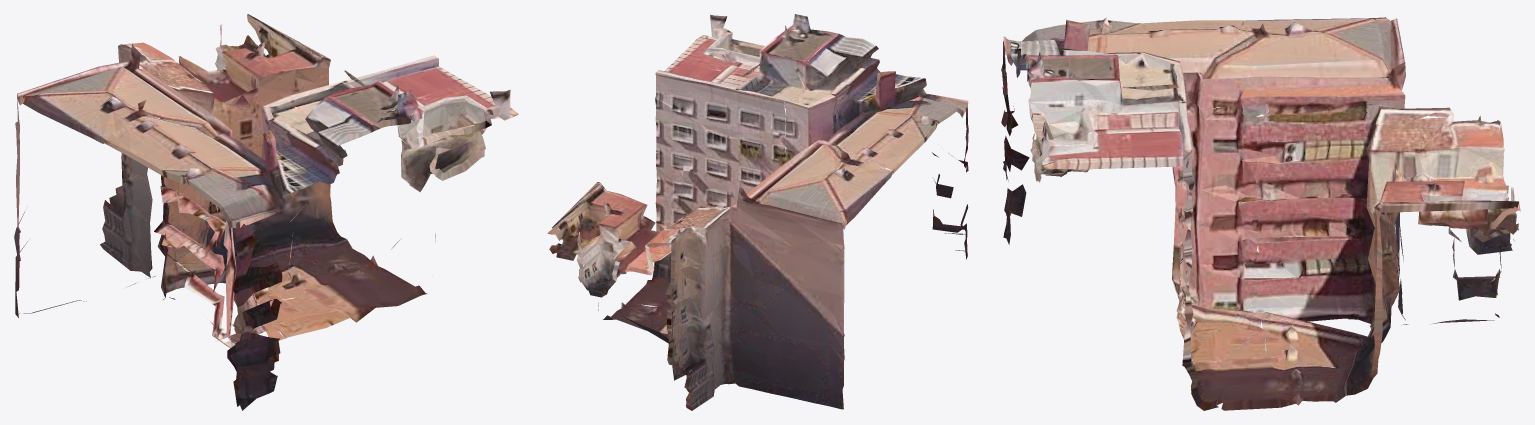
The picture shows the model from 3 angles, left to right: view 1: azimuth 30°, elevation 25°; view 2: azimuth 150°, elevation 25°; view 3: azimuth 270°, elevation 25°; orthographic projection. The views are drawn at different scales.
Parts seen in each view (by area): view 1: Mesh_0; view 2: Mesh_0; view 3: Mesh_0.
Part boxes in pixels (box(x1,y1,x2,y2)): Mesh_0: box(14, 14, 518, 410); Mesh_0: box(547, 14, 968, 410); Mesh_0: box(1001, 17, 1520, 410).
Bounding box in the file's own units: 32.69 × 27.64 × 41.66.
Materials: 2 (2 with a texture image).
